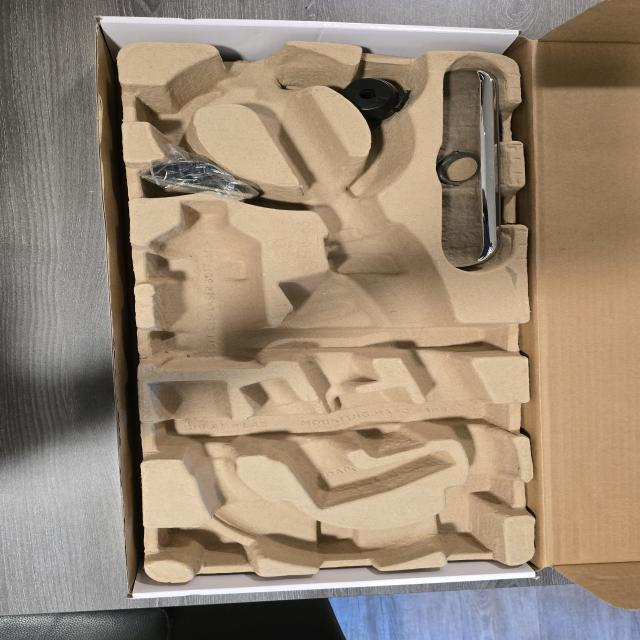1m: (148, 48, 518, 561)
2m: (241, 378, 454, 510)
3m: (150, 201, 264, 370)
4: (434, 68, 497, 268)
5: (346, 76, 413, 123)
6m: (136, 68, 226, 135)
7: (135, 143, 267, 201)
